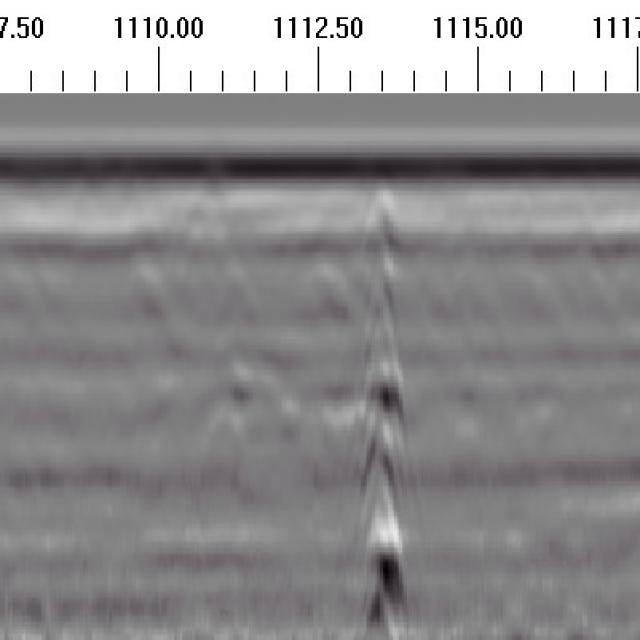crack: (363, 188, 408, 640)
